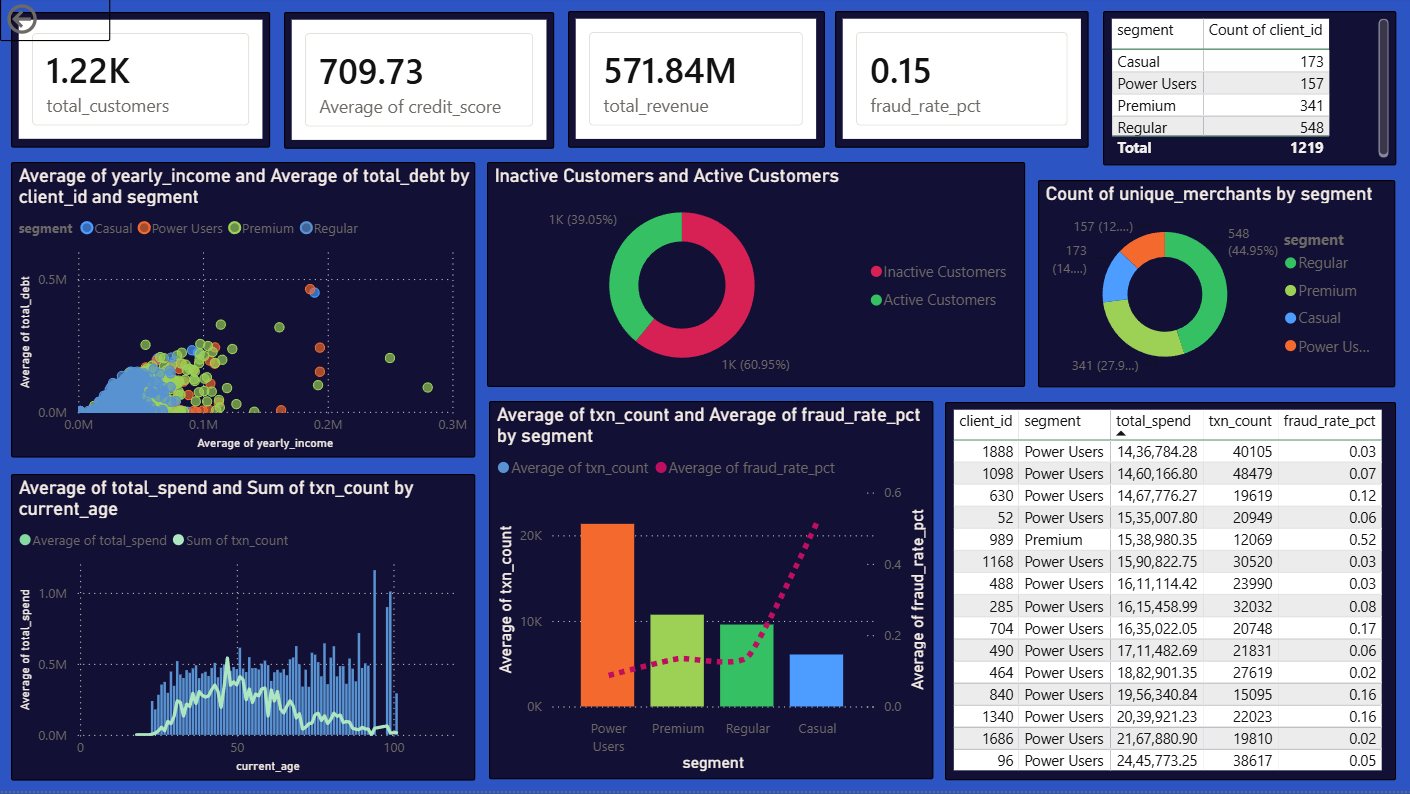

Layout of this report page (visuals, bound fields, positions):
{"tool":"powerbi","page":{"name":"Customer Overview","canvas":[1280,720],"ordinal":2},"visuals":[{"type":"cardVisual","fields":{"Data":["Avg(kpi_summary_202607042252.total_customers)"]},"box":[10,13.8,235,122.5],"z":0},{"type":"cardVisual","fields":{"Data":["Avg(kpi_summary_202607042252.total_revenue)"]},"box":[515,12.5,232.5,123.8],"z":1000},{"type":"cardVisual","fields":{"Data":["Avg(kpi_summary_202607042252.fraud_rate_pct)"]},"box":[757.5,12.5,230,123.8],"z":2000},{"type":"lineClusteredColumnComboChart","fields":{"Category":["customer_summary_202607021533.current_age"],"Y":["Avg(customer_summary_202607021533.total_spend)"],"Y2":["Sum(customer_summary_202607021533.txn_count)"]},"box":[10,432.5,421.2,277.5],"z":3000},{"type":"scatterChart","fields":{"X":["Avg(customer_summary_202607021533.yearly_income)"],"Y":["Avg(customer_summary_202607021533.total_debt)"],"Category":["customer_summary_202607021533.client_id"],"Series":["customer_segments.segment"]},"box":[10,150,421.2,267.5],"z":4000},{"type":"donutChart","fields":{"Category":["customer_segments.segment"],"Y":["CountNonNull(customer_segments.unique_merchants)"]},"box":[941.7,165.8,324.2,188.3],"z":5000},{"type":"cardVisual","fields":{"Data":["Avg(customer_summary_202607021533.credit_score)"]},"box":[257.5,13.8,245,123.8],"z":6000},{"type":"lineStackedColumnComboChart","fields":{"Category":["customer_segments.segment"],"Y":["Avg(customer_segments.txn_count)"],"Y2":["Avg(customer_segments.fraud_rate_pct)"]},"box":[443.3,366.7,402.5,343.3],"z":7000},{"type":"tableEx","fields":{"Values":["customer_segments.client_id","customer_segments.segment","customer_segments.total_spend","customer_segments.txn_count","customer_segments.fraud_rate_pct"]},"box":[857,367,409,343],"z":8000},{"type":"actionButton","box":[0,0,100,40],"z":9000},{"type":"tableEx","fields":{"Values":["customer_segments.segment","customer_segments.client_id"]},"box":[1000,12.5,266.2,140],"z":10000},{"type":"donutChart","fields":{"Y":["customer_summary_202607021533.Inactive Customers","customer_summary_202607021533.Active Customers"]},"box":[441.7,150,487.5,204.2],"z":11000}]}

Visuals, with their boxes in screenshot pixels (x1, y1, x2, y2), scaled from the page's 1280x720 canvas onto the 1410x794 screenshot:
cardVisual - Avg(kpi_summary_202607042252.total_customers): <bbox>11, 15, 270, 150</bbox>
cardVisual - Avg(kpi_summary_202607042252.total_revenue): <bbox>567, 14, 823, 150</bbox>
cardVisual - Avg(kpi_summary_202607042252.fraud_rate_pct): <bbox>834, 14, 1088, 150</bbox>
lineClusteredColumnComboChart - customer_summary_202607021533.current_age x Avg(customer_summary_202607021533.total_spend): <bbox>11, 477, 475, 783</bbox>
scatterChart - Avg(customer_summary_202607021533.yearly_income) x Avg(customer_summary_202607021533.total_debt): <bbox>11, 165, 475, 460</bbox>
donutChart - customer_segments.segment x CountNonNull(customer_segments.unique_merchants): <bbox>1037, 183, 1394, 390</bbox>
cardVisual - Avg(customer_summary_202607021533.credit_score): <bbox>284, 15, 554, 152</bbox>
lineStackedColumnComboChart - customer_segments.segment x Avg(customer_segments.txn_count): <bbox>488, 404, 932, 783</bbox>
tableEx - customer_segments.client_id x customer_segments.segment: <bbox>944, 405, 1395, 783</bbox>
actionButton: <bbox>0, 0, 110, 44</bbox>
tableEx - customer_segments.segment x customer_segments.client_id: <bbox>1102, 14, 1395, 168</bbox>
donutChart - customer_summary_202607021533.Inactive Customers x customer_summary_202607021533.Active Customers: <bbox>487, 165, 1024, 391</bbox>
